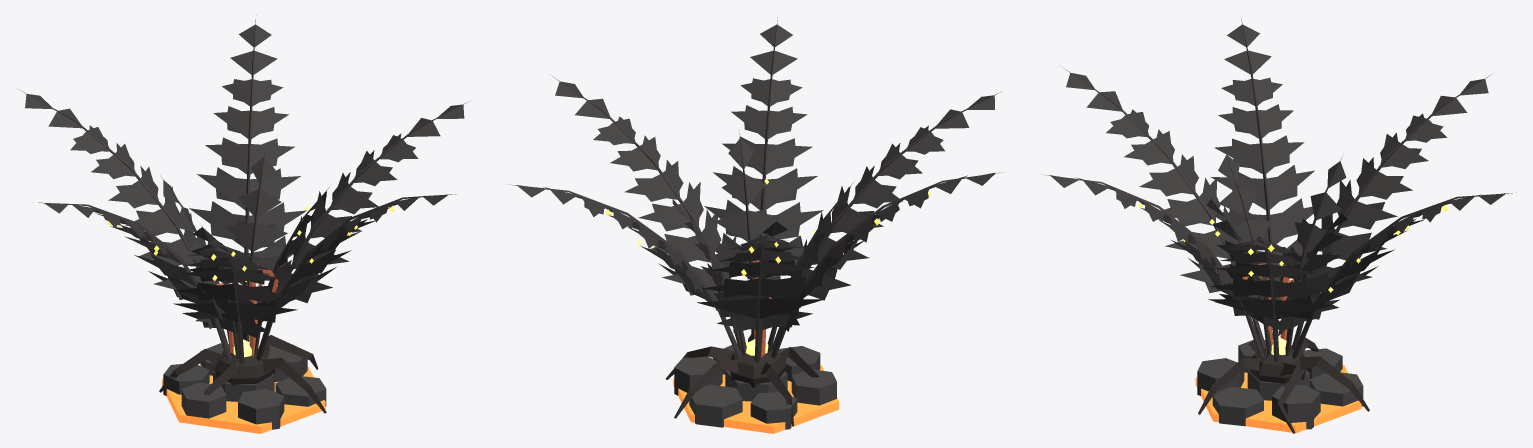
Rendered from plant_t3.fbx.
3 views of the same model, side by side, from view 1: azimuth 30°, elevation 25°; view 2: azimuth 150°, elevation 25°; view 3: azimuth 270°, elevation 25° (orthographic).
Visible parts, largest first — view 1: plant_t3; view 2: plant_t3; view 3: plant_t3.
Part boxes in pixels (<box>): plant_t3: <box>18,15,469,433</box>; plant_t3: <box>507,17,1003,433</box>; plant_t3: <box>1043,19,1512,433</box>.
Bounding box in the file's own units: 75 × 42.77 × 68.75.
